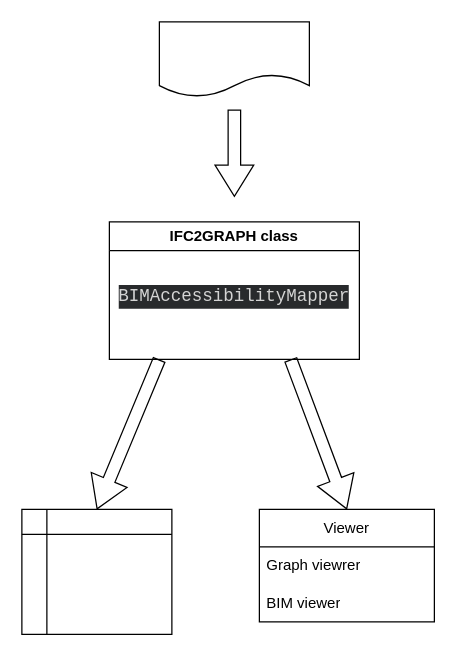
The diagram is 456 pixels wide and 669 high, and some of its shapes have lost their labels. The shapes that lost their labels are listed below. From the top down, each one's centre as x and y in pixels, then its label:
point (233, 59): IFC model
point (96, 571): Exporter: +Geopackage
